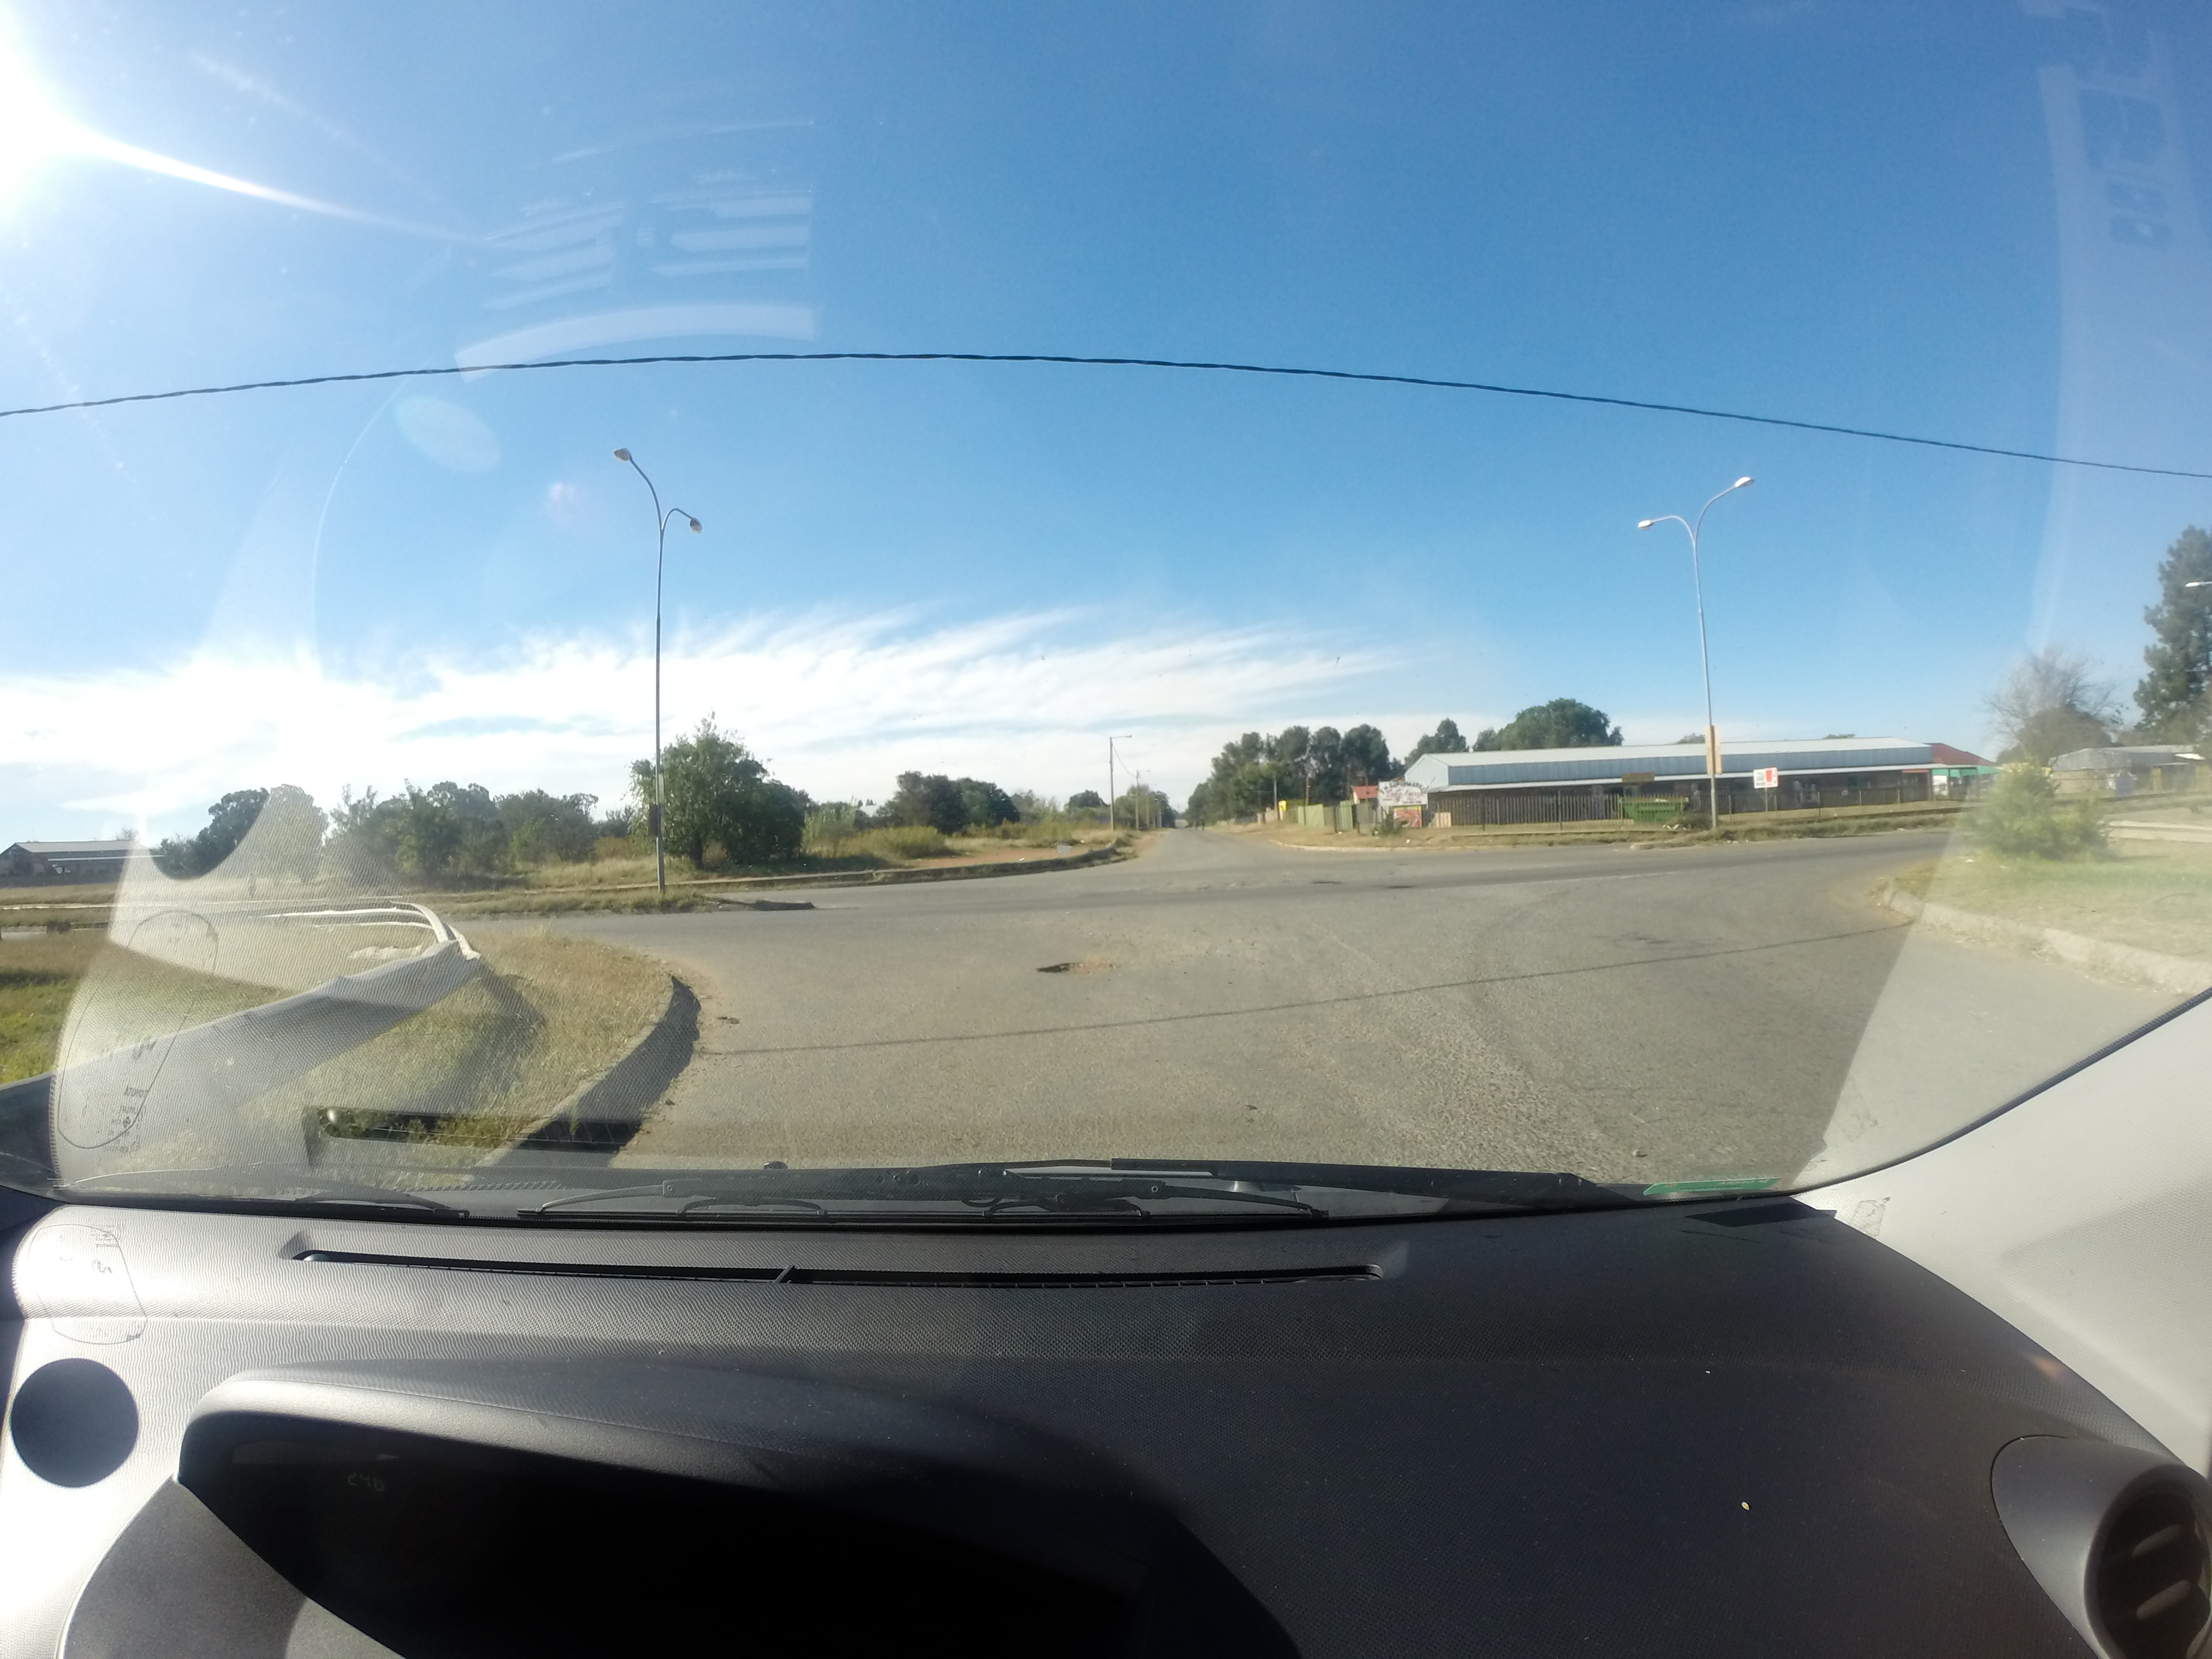pothole: (1012, 945, 1144, 1012)
